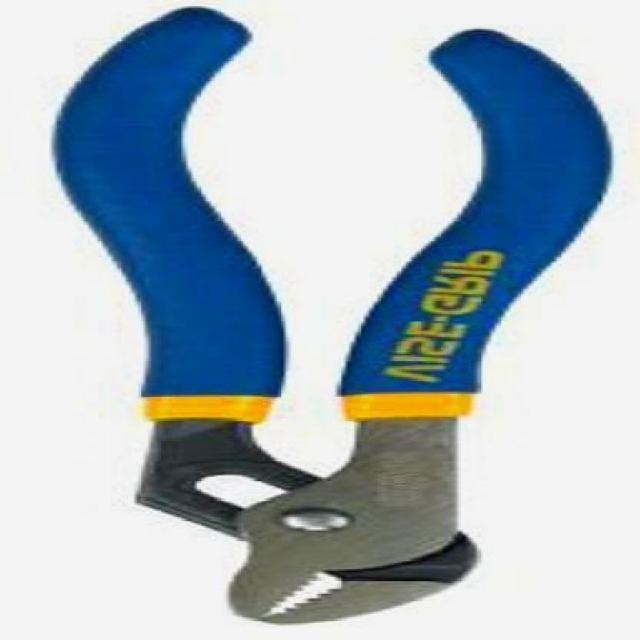pliers: (37, 0, 628, 638)
